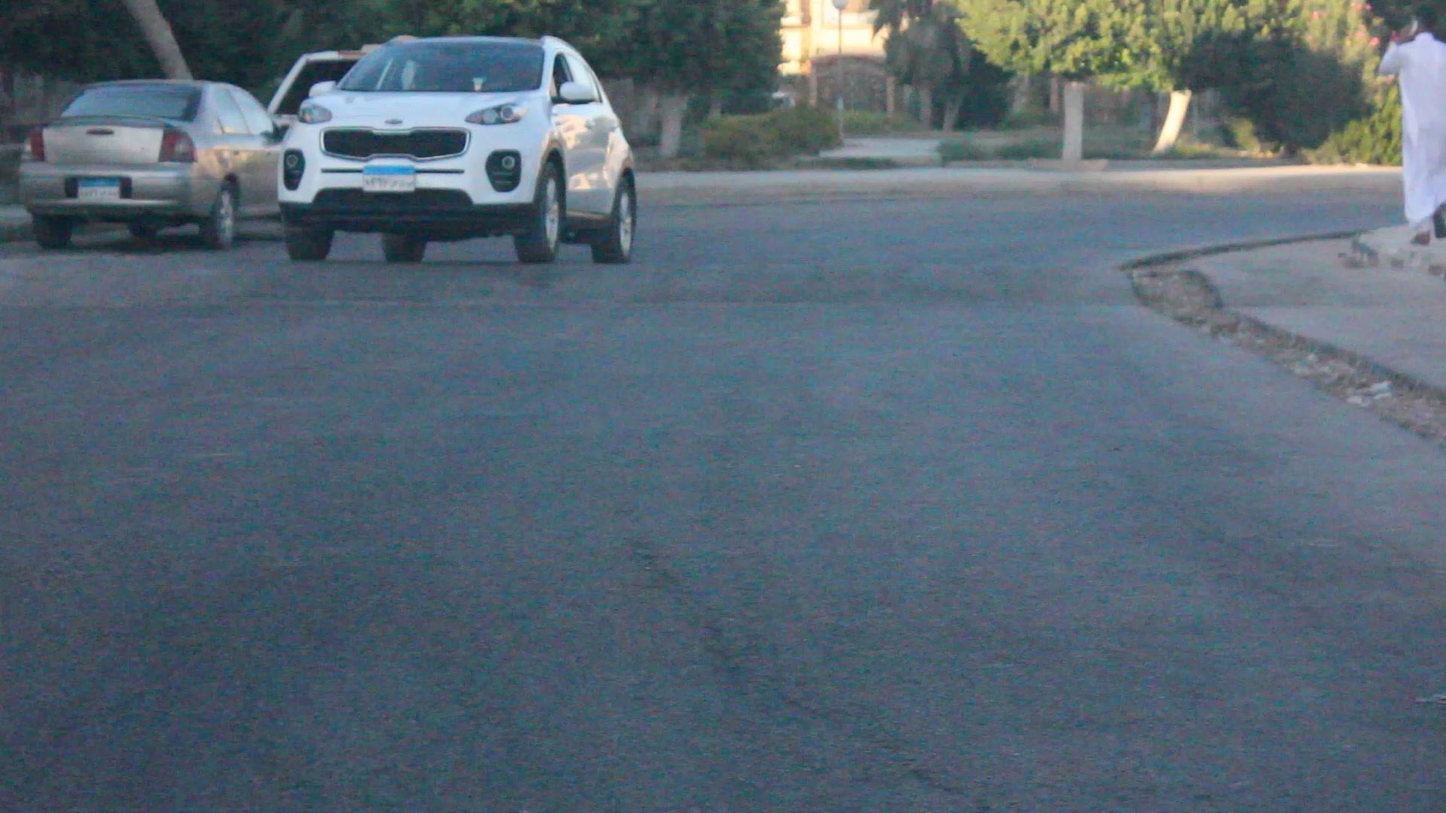Bump: (0, 247, 1160, 324)
